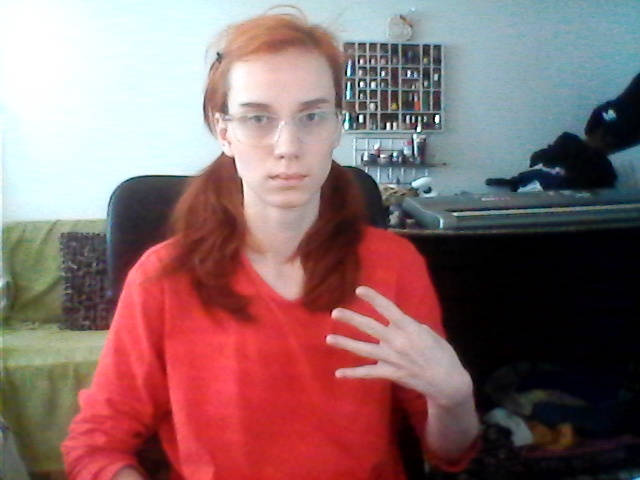styri: (318, 282, 476, 411)
